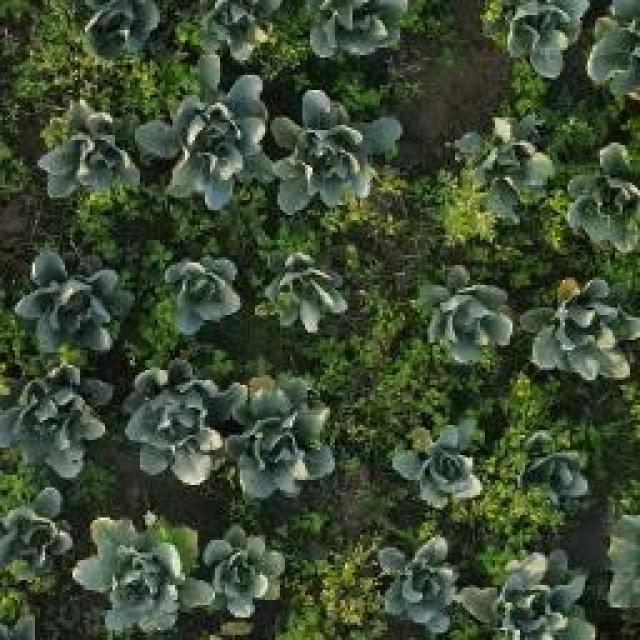cabbage: (80, 511, 204, 624), (218, 365, 330, 483), (265, 97, 375, 215), (0, 362, 109, 468), (124, 366, 230, 472), (163, 92, 269, 196), (21, 252, 125, 355), (49, 107, 154, 203), (416, 270, 514, 368), (536, 278, 634, 376), (258, 246, 354, 336), (203, 521, 293, 617), (157, 249, 250, 338), (488, 562, 594, 640), (463, 119, 550, 211), (389, 421, 481, 507), (380, 539, 462, 623), (5, 496, 84, 581), (575, 152, 640, 243), (518, 434, 590, 508), (497, 0, 577, 62), (82, 0, 162, 50)
